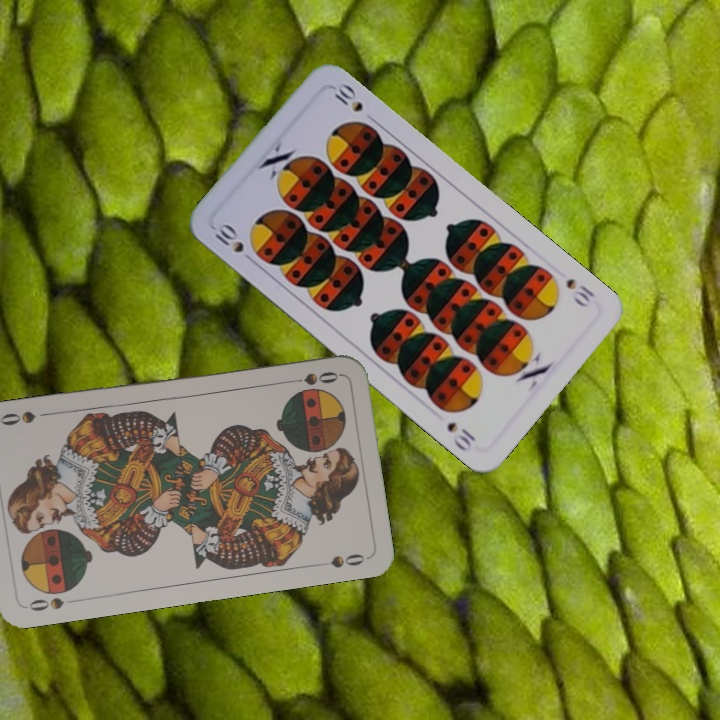S10: (208, 219, 258, 266), (562, 274, 598, 310)
SO: (283, 367, 342, 388), (24, 593, 82, 614)
